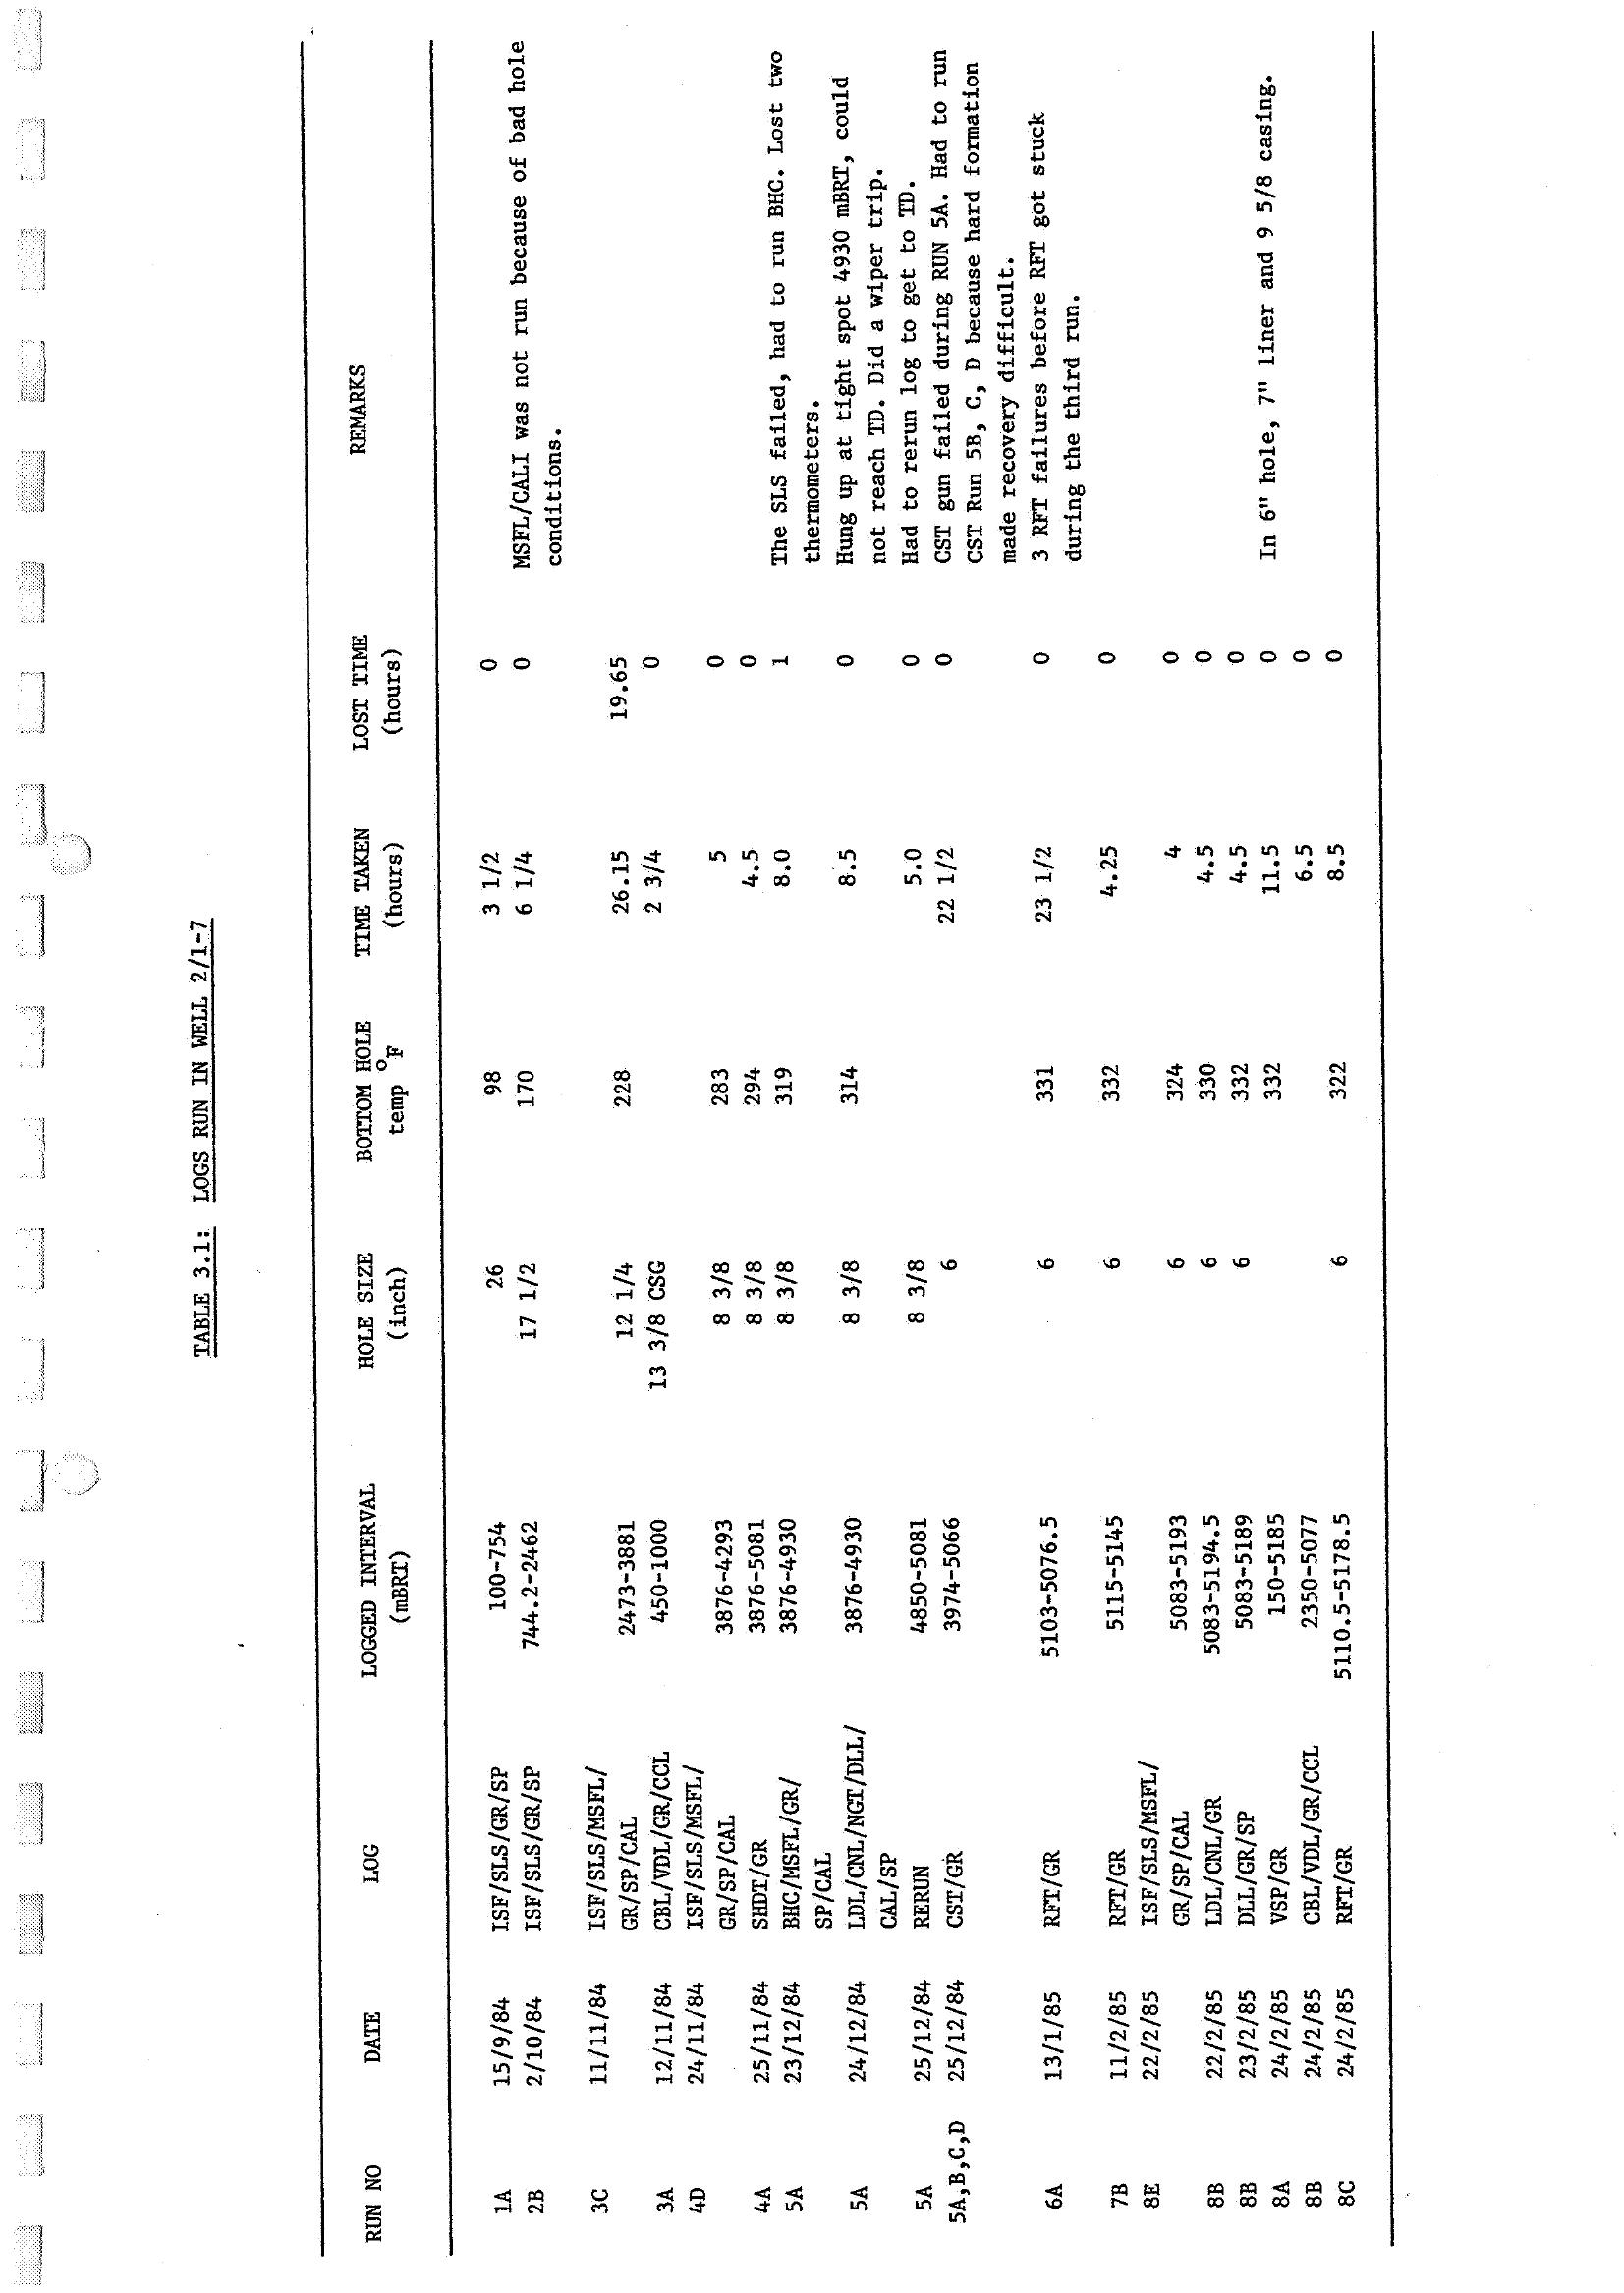table: (151, 25, 1473, 2279)
